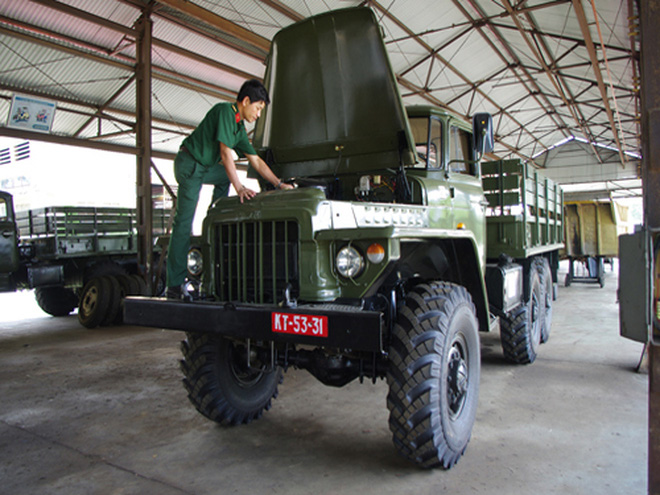plate: (272, 308, 330, 337)
